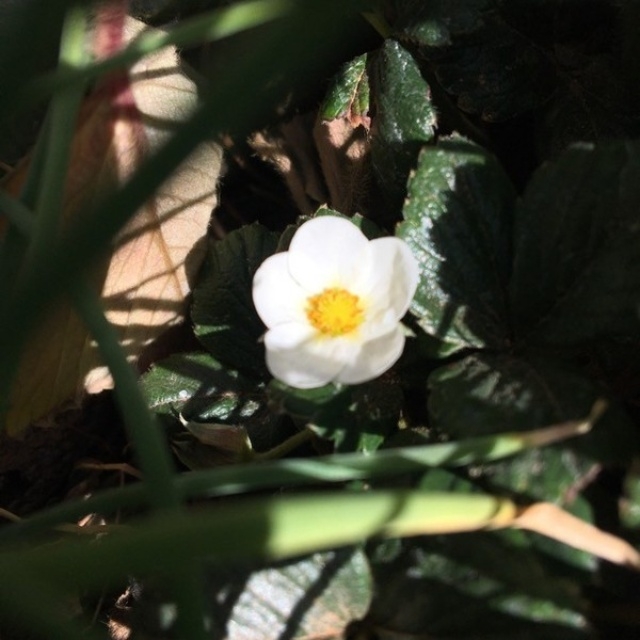obstacle: (208, 213, 534, 448)
